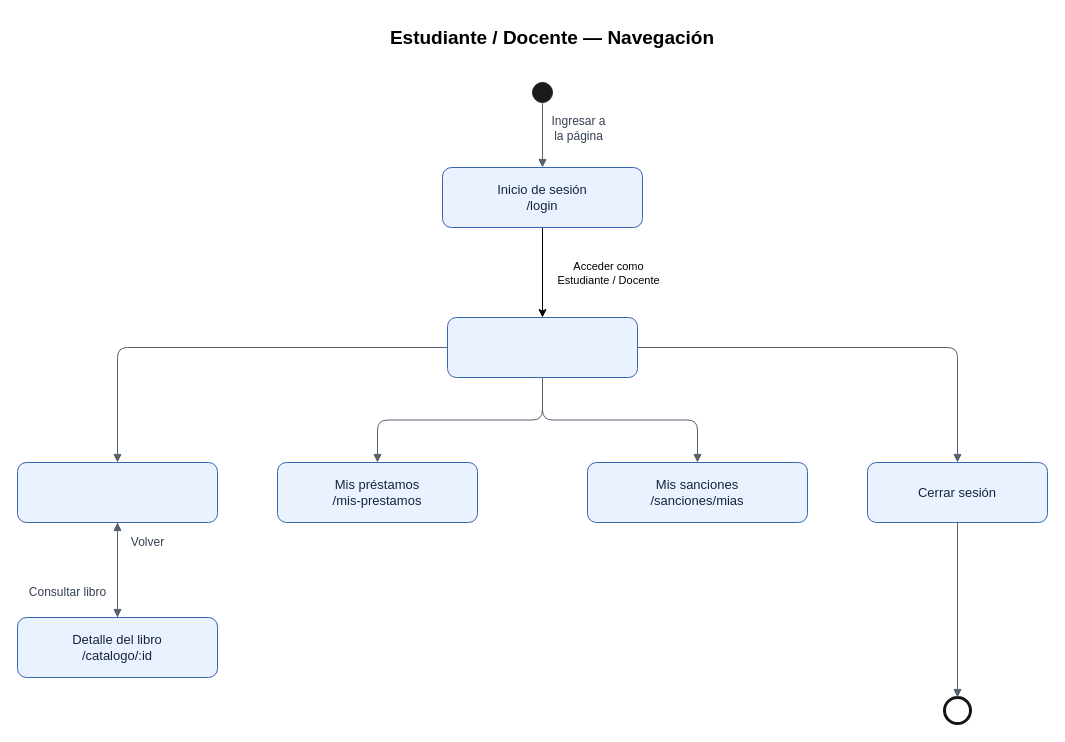
The diagram is 1065 pixels wide and 742 high, and some of its shapes have lost their labels. The shapes that lost their labels are listed below. From the top down, each one's centre as x and y in pixels, then its label:
point (542, 347): Inicio /inicio
point (117, 492): Catálogo /catalogo
